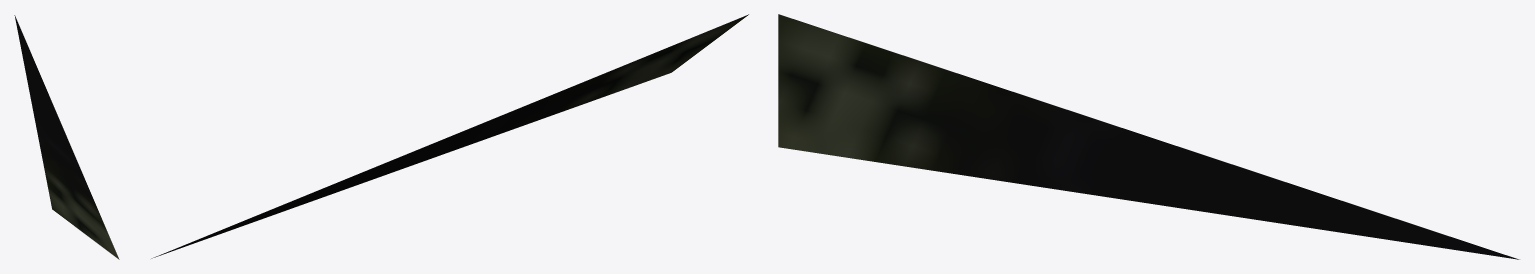
3 renders of one model, left to right at view 1: azimuth 30°, elevation 25°; view 2: azimuth 150°, elevation 25°; view 3: azimuth 270°, elevation 25°, orthographic. The views are drawn at different scales.
Size of the model in its own units: 0.2785 by 0.0742 by 0.5581.
1 material, 1 textured.
